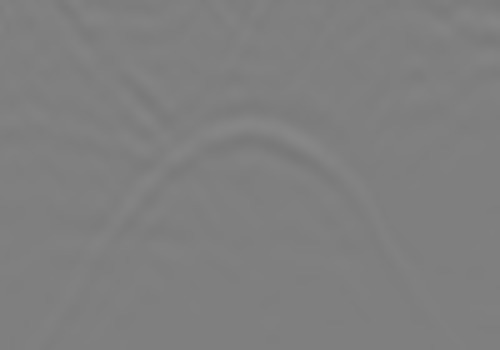hyperbola: (88, 115, 425, 303)
